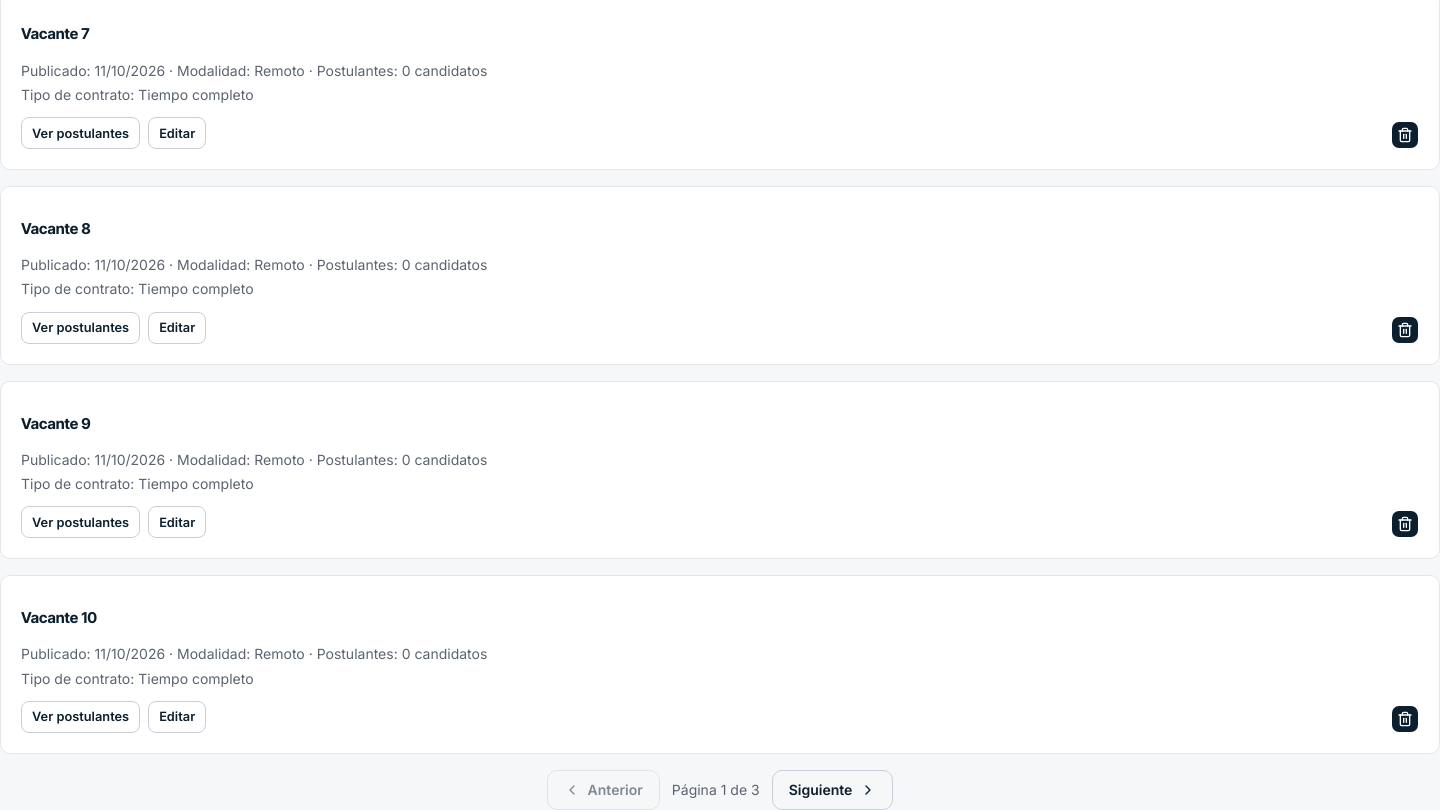
Test: VacancyList en el portal de empresa › pagina de 10 en 10 cuando hay muchas vacantes
(page scrolled)
Expected: the list item "Página 1 de 3" is shown, [672, 780, 760, 800]
Click the button "Siguiente". click: (833, 790)
box: [772, 770, 893, 809]
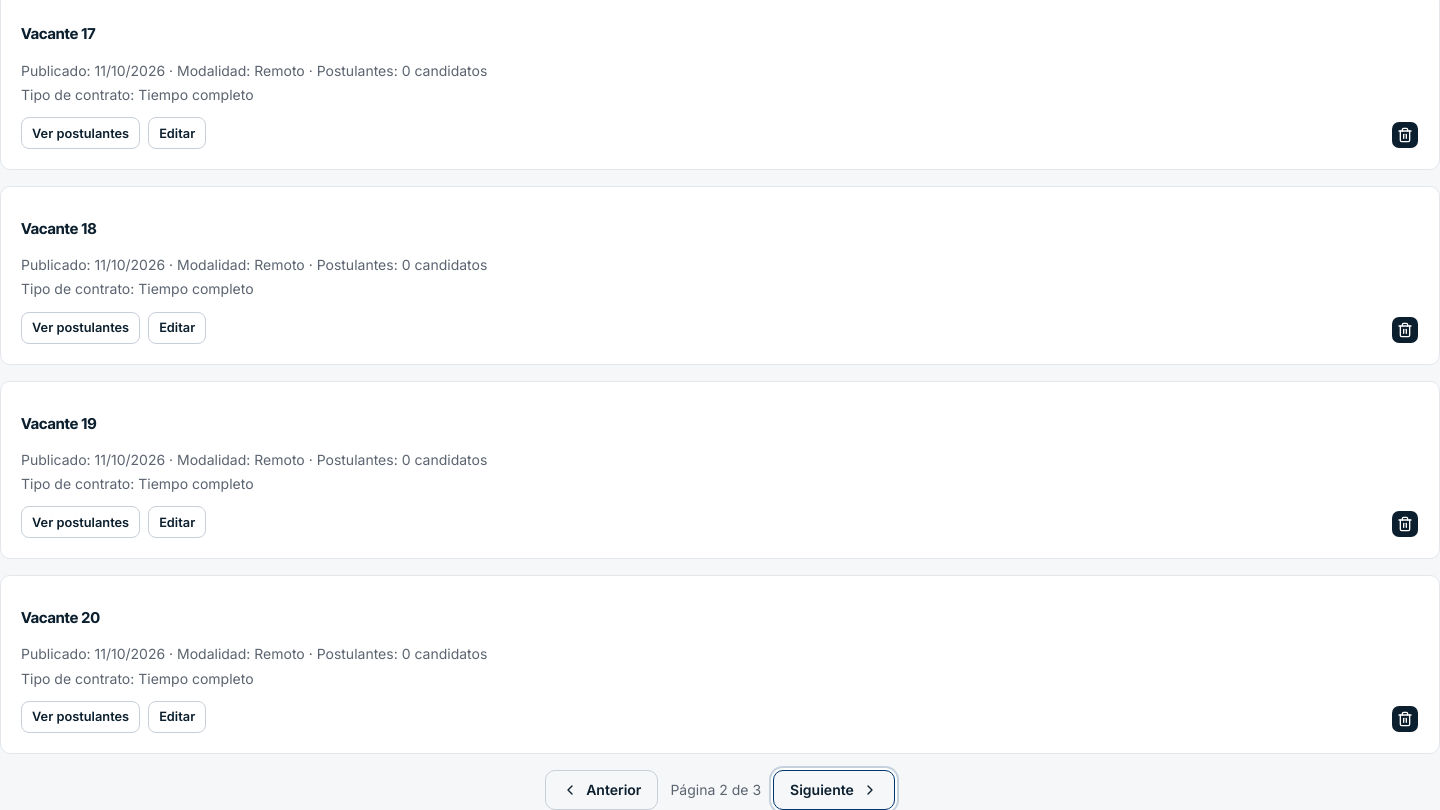
Expected: the list item "Página 2 de 3" is shown, [670, 780, 761, 800]
